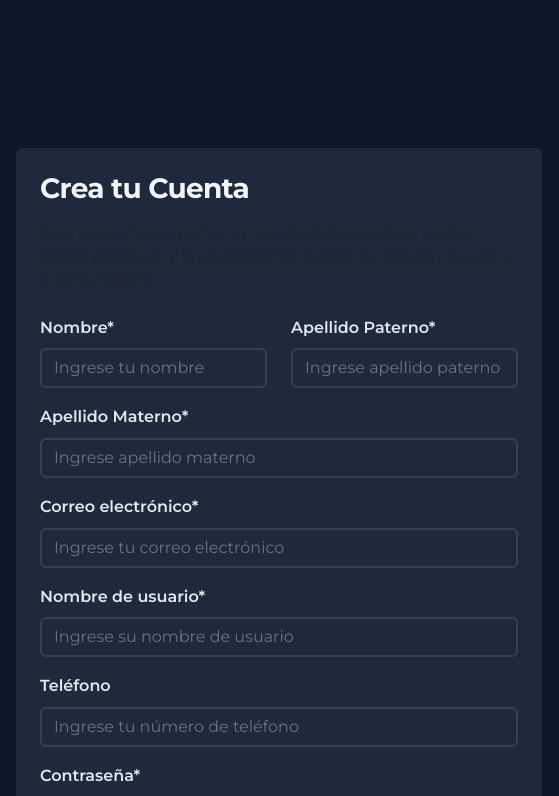
Test case: Registro Component › Validaciones de formato › debe validar que la contraseña tenga al menos una mayúscula
In the field labelled "Nombre*": (154, 368) [40,348,267,388], type "Test"
In the field labelled "Apellido Paterno*": (404, 368) [291,348,518,388], type "User"
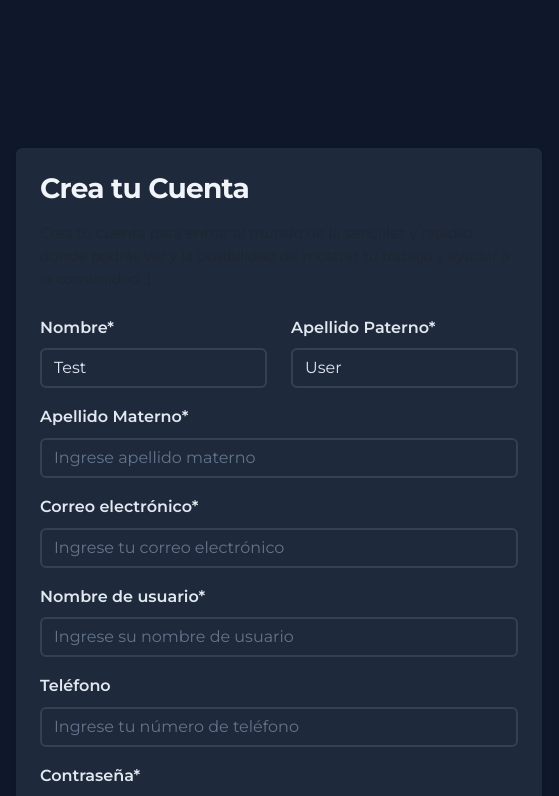
In the field labelled "Apellido Materno*": (279, 458) [40,438,518,478], type "Prueba"
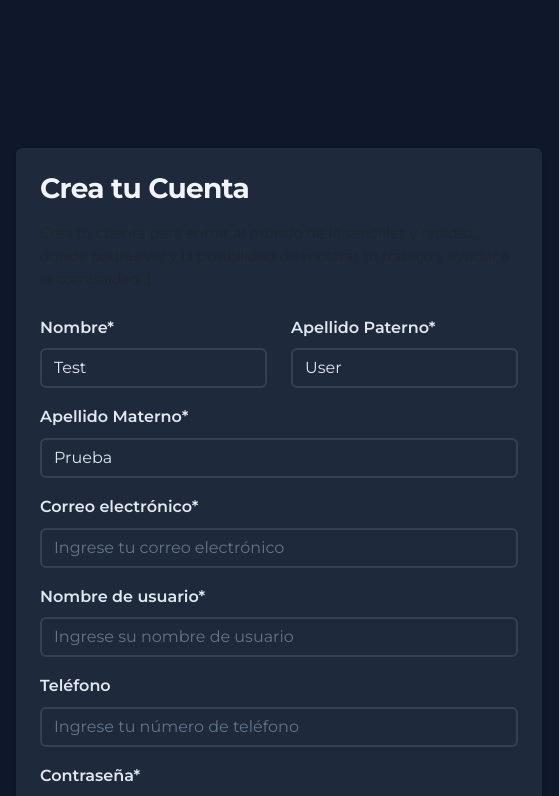
In the field labelled "Correo electrónico*": (279, 548) [40,528,518,568], type "test@test.com"
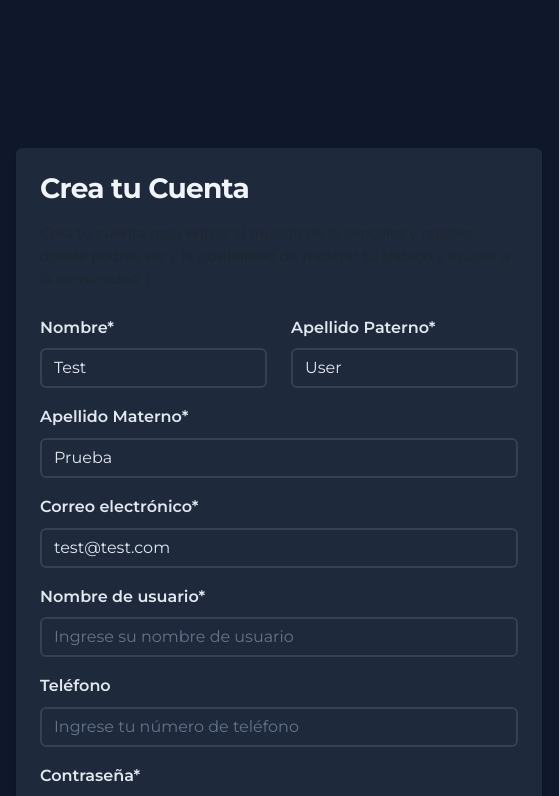
In the field labelled "Nombre de usuario*": (279, 637) [40,617,518,657], type "testuser"
(page scrolled)
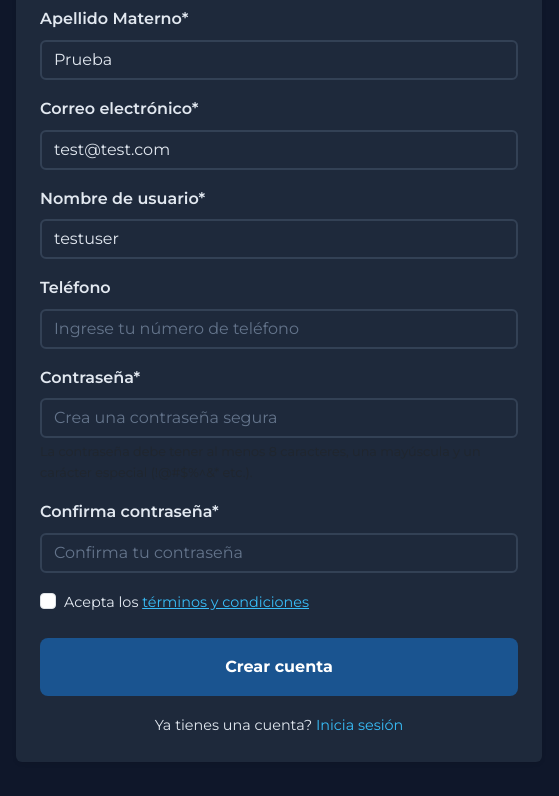
In the password field labelled "Contraseña*": (279, 418) [40,398,518,438], type "password123!"
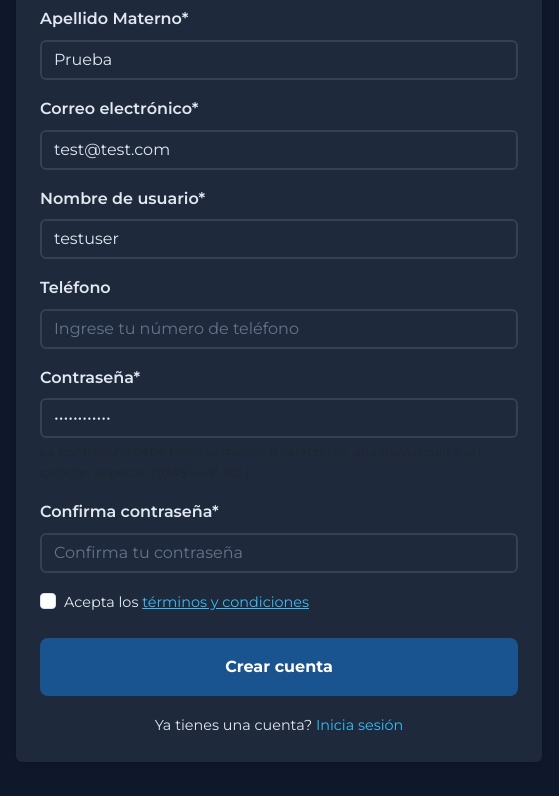
Click the button "Crear cuenta": (279, 667) [40,638,518,696]
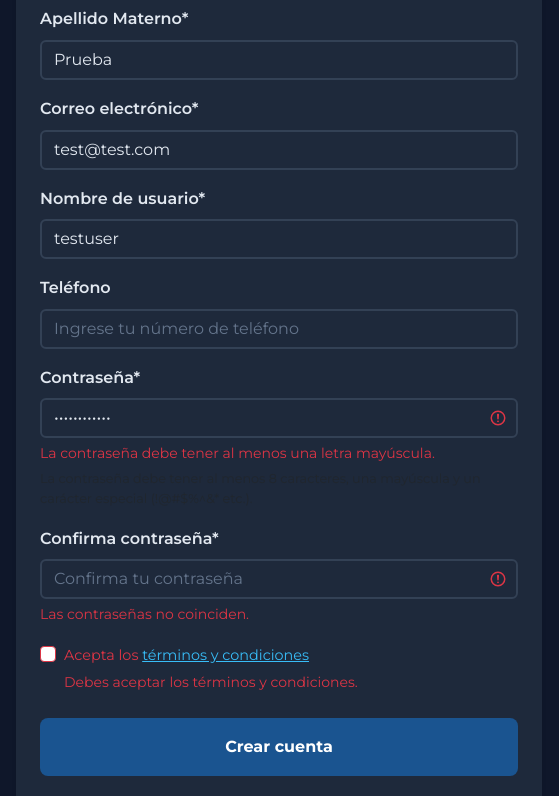
expect the text "La contraseña debe tener al menos una letra mayúscula." is shown: met, box [40,444,435,462]
